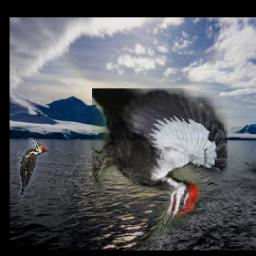Woodpecker: (92, 88, 227, 234), (18, 138, 49, 205)
